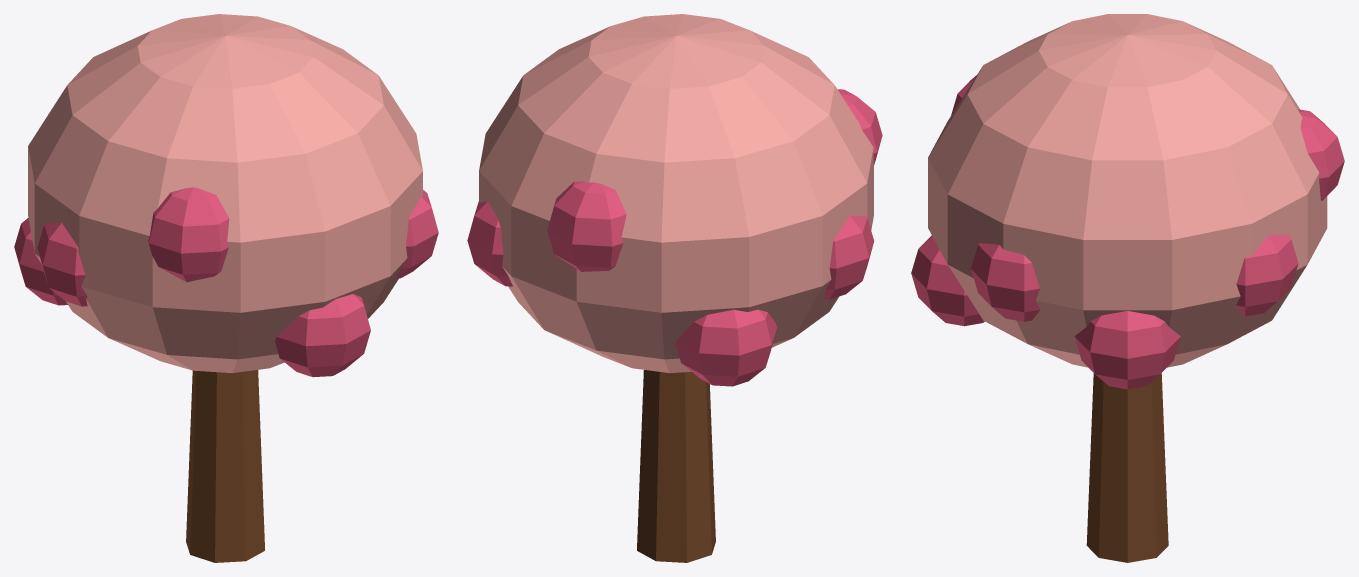
Rendered from tree_flower.glb.
3 views of the same model, side by side, from view 1: azimuth 30°, elevation 25°; view 2: azimuth 150°, elevation 25°; view 3: azimuth 270°, elevation 25° (orthographic).
Visible parts, largest first — view 1: tree_flower; view 2: tree_flower; view 3: tree_flower.
Part boxes in pixels (x1,y1,x2,y2): tree_flower: [14, 14, 438, 562]; tree_flower: [467, 14, 882, 562]; tree_flower: [911, 14, 1344, 562].
Bounding box in the file's own units: 1.06 × 1.38 × 1.06.
